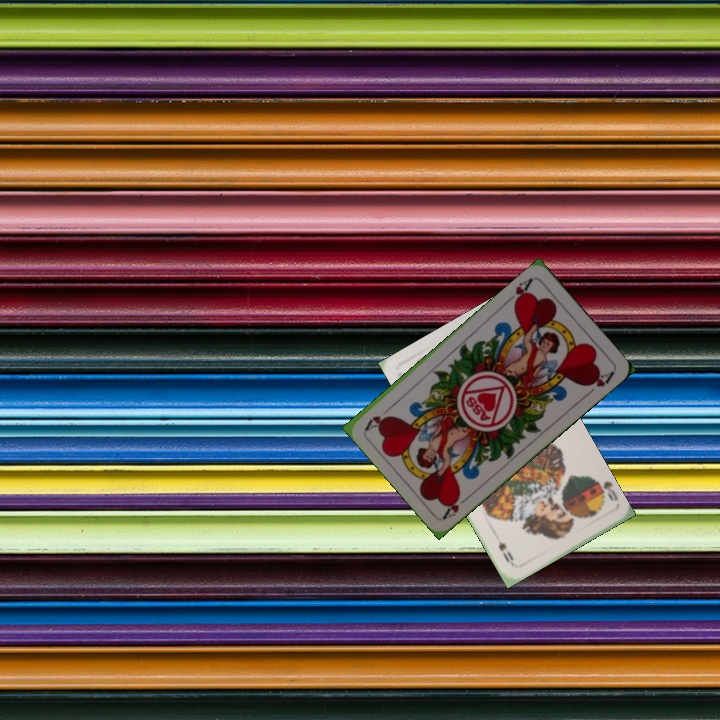HA: (502, 274, 536, 308), (439, 490, 474, 522)
SO: (588, 474, 621, 504)
